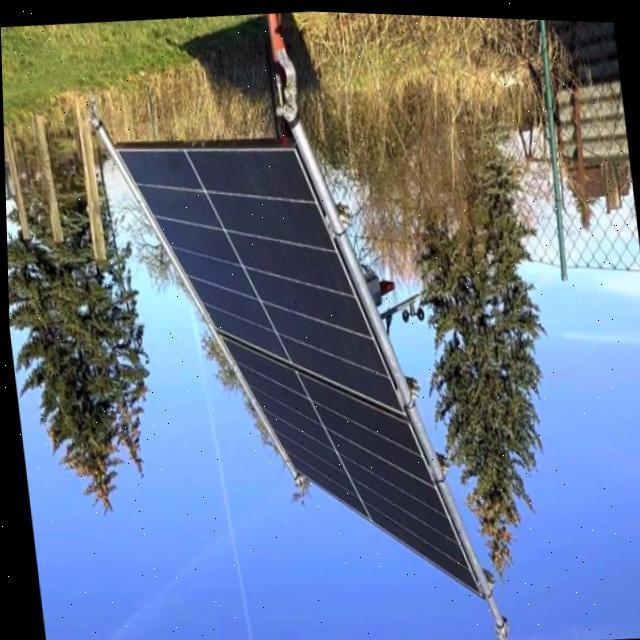Normal Solar Panel: (113, 121, 479, 622)
